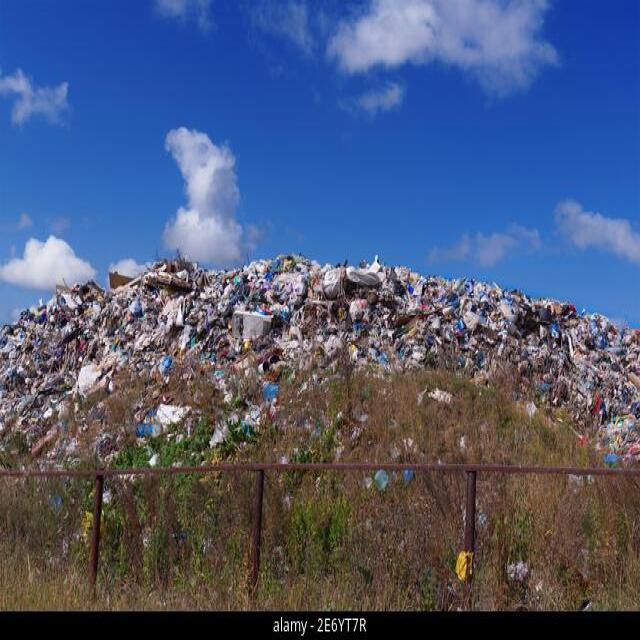trash: (1, 258, 638, 452)
